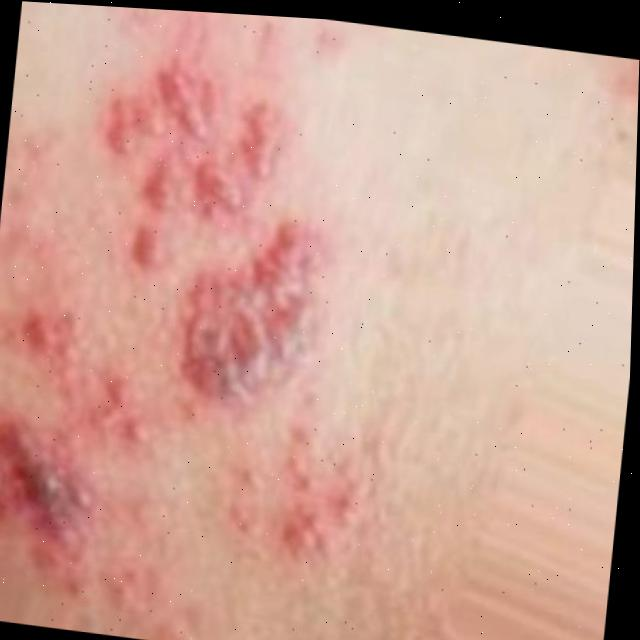Shingles: (75, 33, 351, 412), (0, 298, 151, 554), (206, 409, 393, 582)
